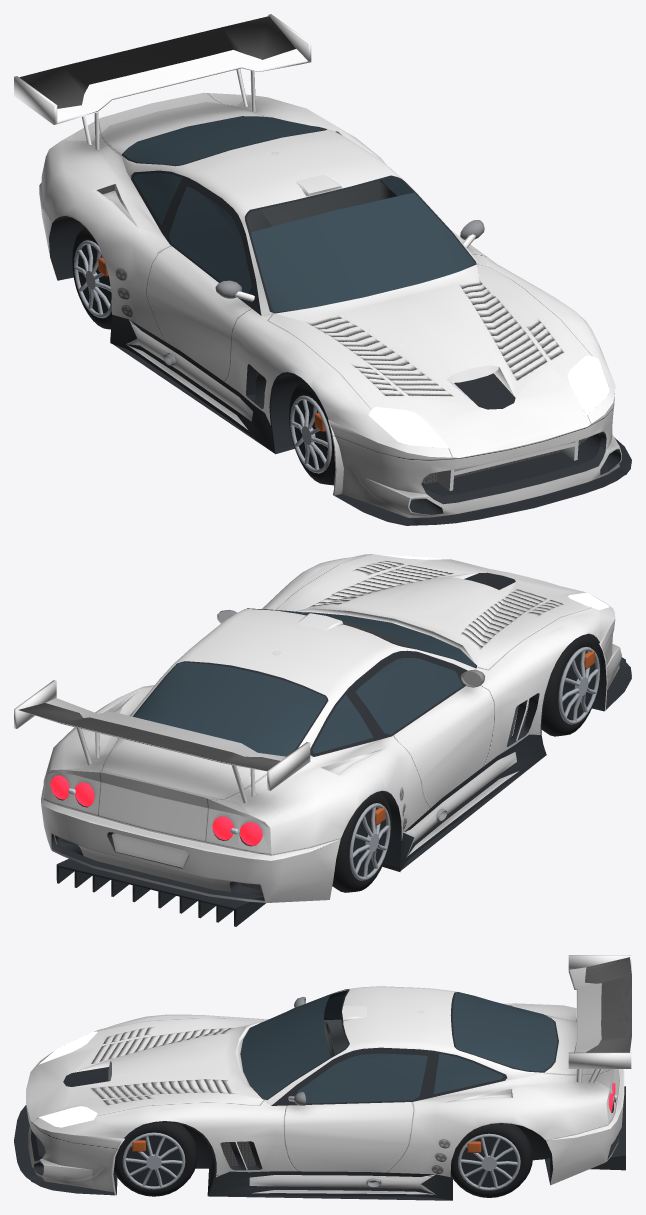
File: cavallo-575-lod.glb
The picture shows the model from 3 angles, top to bottom: view 1: azimuth 30°, elevation 25°; view 2: azimuth 150°, elevation 25°; view 3: azimuth 270°, elevation 25°; orthographic projection. The views are drawn at different scales.
Visible parts, largest first — view 1: BODY, WI, wing, BODY_hood, BODYm, fbmp, rubber_wi, sideskirt2, wh1, headlights_case, f_airdam_big, INT (+15 smaller); view 2: BODY, WI, BODYm, rbmp, wing, BODY_hood, rear, rubber_wi, sideskirt2, sideskirt1, BODYr, r_splitter_p2 (+19 smaller); view 3: BODY, WI, BODYm, wing, BODY_hood, sideskirt2, fbmp, rubber_wi, sideskirt1, rbmp, Slick tire.001, Slick tire.003 (+16 smaller).
Boxes of the visible parts, bbox=[...] form: BODY: bbox=[41, 95, 615, 457]; WI: bbox=[123, 116, 475, 312]; wing: bbox=[14, 14, 311, 149]; BODY_hood: bbox=[275, 264, 515, 405]; BODYm: bbox=[121, 129, 479, 315]; fbmp: bbox=[327, 393, 621, 517]; rubber_wi: bbox=[122, 116, 476, 315]; sideskirt2: bbox=[110, 314, 274, 452]; wh1: bbox=[49, 216, 303, 453]; headlights_case: bbox=[368, 355, 609, 448]; f_airdam_big: bbox=[422, 433, 600, 496]; INT: bbox=[133, 171, 397, 232]; BODY: bbox=[43, 554, 615, 855]; WI: bbox=[134, 609, 475, 756]; BODYm: bbox=[130, 608, 478, 758]; rbmp: bbox=[41, 803, 340, 902]; wing: bbox=[14, 680, 310, 803]; BODY_hood: bbox=[295, 573, 515, 665]; rear: bbox=[43, 773, 271, 855]; rubber_wi: bbox=[133, 608, 476, 756]; sideskirt2: bbox=[400, 734, 545, 871]; sideskirt1: bbox=[403, 752, 518, 857]; BODYr: bbox=[52, 835, 265, 902]; r_splitter_p2: bbox=[56, 859, 249, 926]; BODY: bbox=[26, 1003, 609, 1177]; WI: bbox=[240, 992, 557, 1103]; BODYm: bbox=[263, 986, 543, 1105]; wing: bbox=[568, 955, 631, 1082]; BODY_hood: bbox=[74, 1023, 262, 1099]; sideskirt2: bbox=[209, 1171, 452, 1200]; fbmp: bbox=[26, 1105, 124, 1195]; rubber_wi: bbox=[253, 989, 558, 1105]; sideskirt1: bbox=[249, 1174, 435, 1194]; rbmp: bbox=[546, 1098, 623, 1185]; Slick tire.001: bbox=[114, 1122, 197, 1196]; Slick tire.003: bbox=[450, 1123, 532, 1197].
Bounding box in the file's own units: 2.03 × 1.23 × 4.76.
12 materials, 1 textured.
